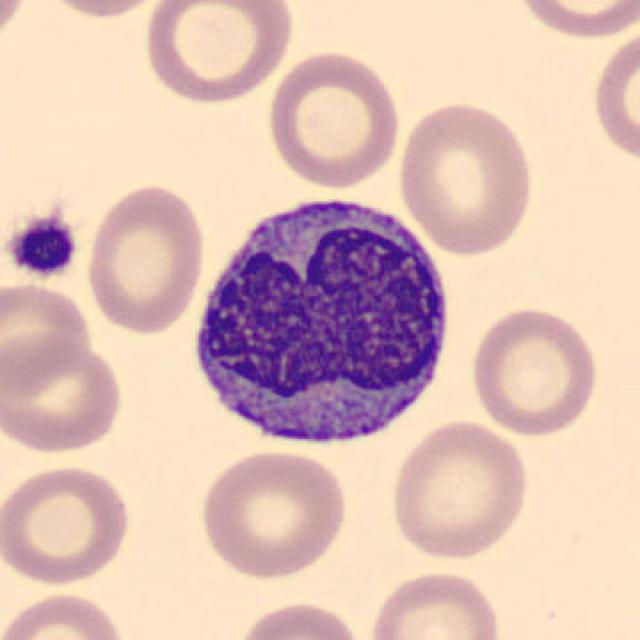Monocyte: (183, 182, 461, 458)
Platelets: (4, 212, 82, 278)
RBC: (393, 97, 539, 257), (386, 416, 533, 563), (194, 446, 352, 580), (261, 46, 402, 190), (82, 180, 208, 337), (466, 301, 601, 439), (0, 460, 135, 589), (139, 0, 297, 108), (0, 333, 126, 457), (0, 276, 94, 396), (364, 566, 506, 640), (588, 19, 638, 173), (0, 587, 130, 640), (233, 597, 368, 640), (506, 0, 636, 42), (30, 0, 178, 21), (0, 0, 34, 53)
